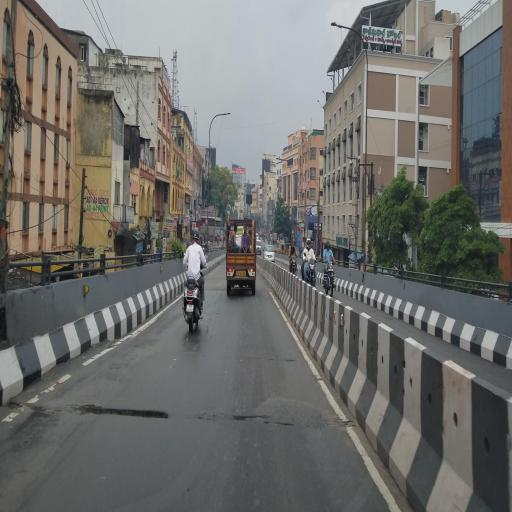street_light_0: (328, 11, 365, 49), (211, 99, 235, 135)
